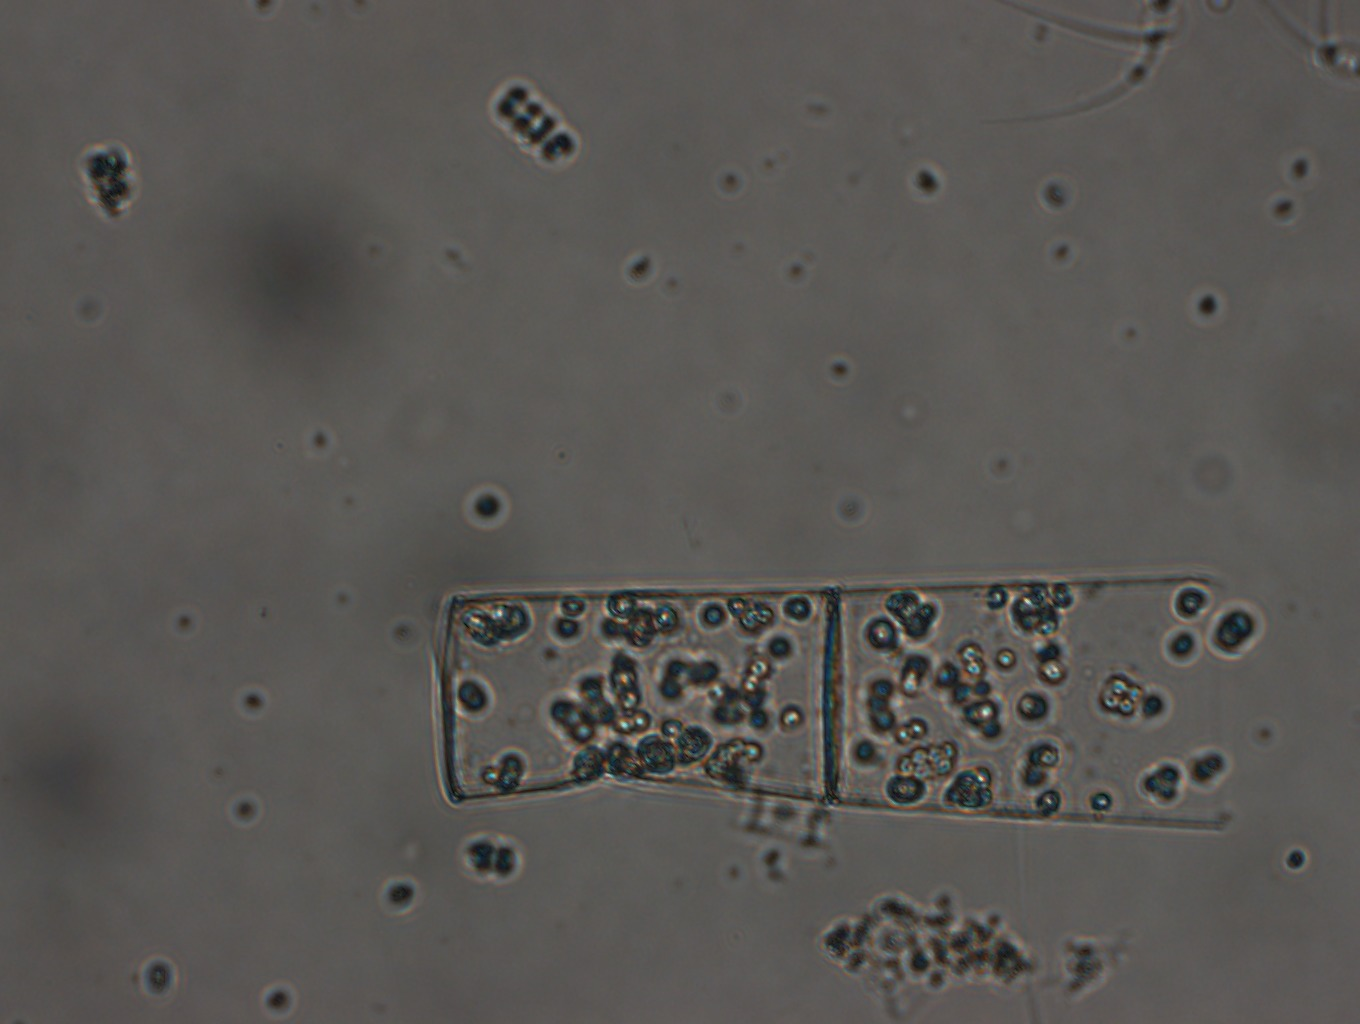guinardia flaccida: (429, 567, 1260, 822)
